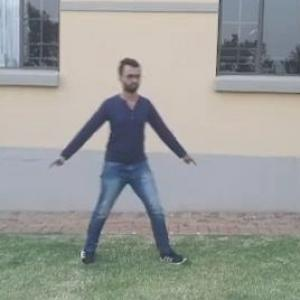land: (55, 61, 191, 250)
